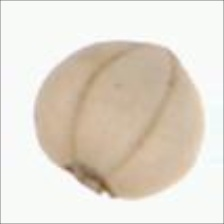L5: (69, 44, 179, 177), (57, 162, 120, 200)
L6: (31, 39, 207, 202)
